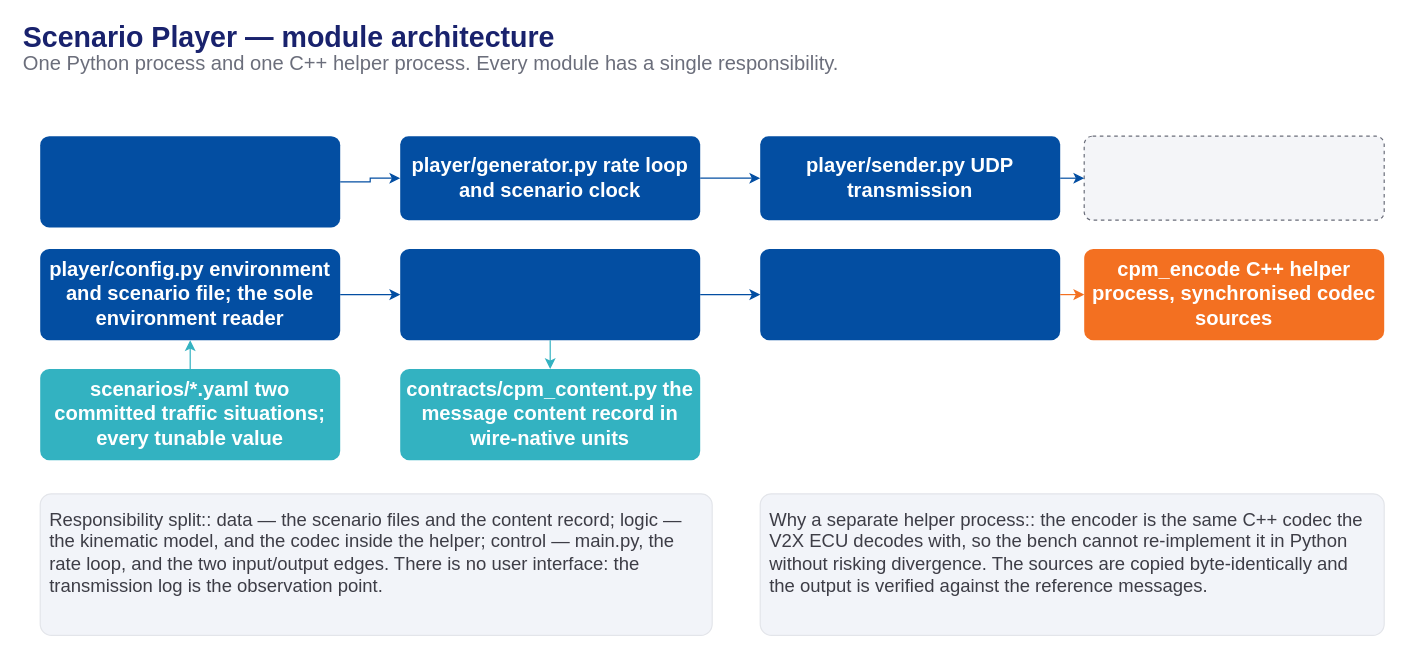
Image size: 1423x656. Some labels were removed from this diagram. Each missing label, with the centre of its shape:
"main.py entrypoint and composition; no logic of its own" belongs at (190,181).
"player/encoder_client.py drives the helper over one JSON line per message" belongs at (910,294).
"player/scenario.py constant-velocity model: position of C at time t" belongs at (550,294).
"V2X ECU 10.99.0.11:47100" belongs at (1233,177).
